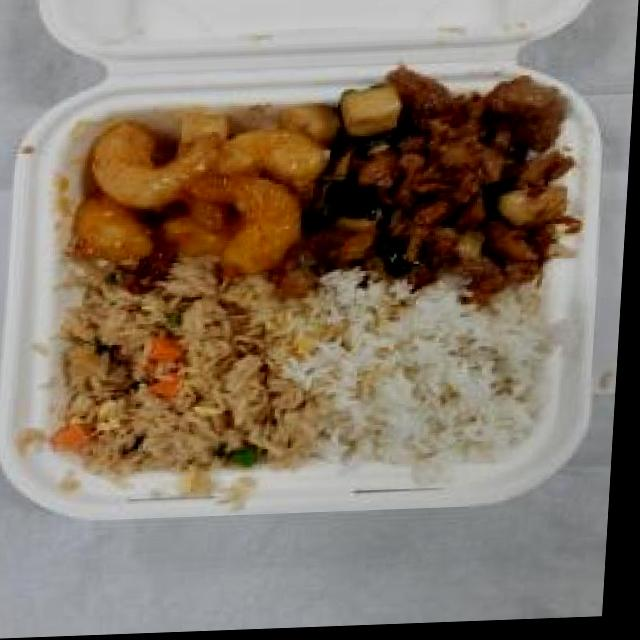Fried Rice: (45, 273, 318, 494)
Honey Walnut Shrimp: (59, 95, 341, 293)
Kung Pao Chicken: (304, 71, 589, 294)
White Steamed Rice: (302, 294, 551, 476)
